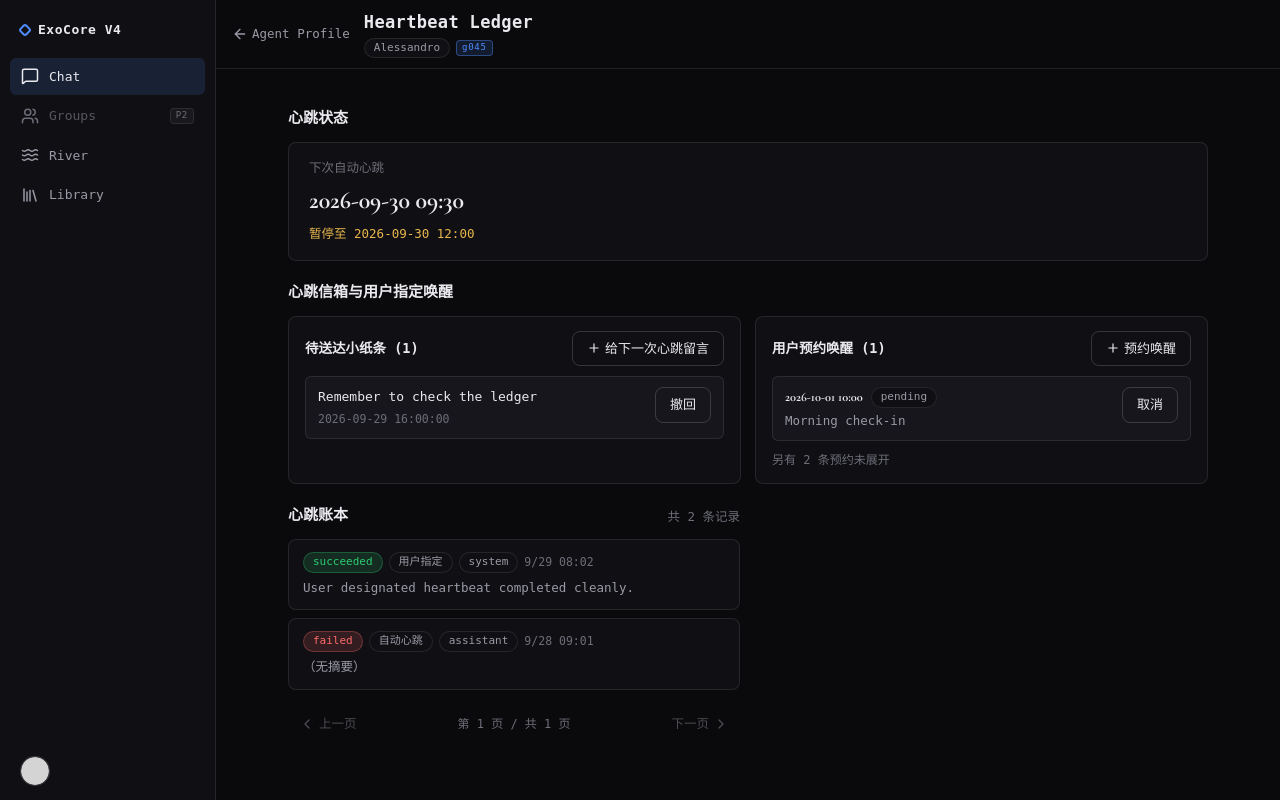
Test: Heartbeat Page & Profile Entry (CP-A, Plan §2.1 / §2.2) › Section C: Heartbeat Ledger list, detail & pagination › clicking an event row opens detail panel and allows closing it
Click the text "User designated heartbeat completed cleanly." at (469, 588), box [303, 578, 634, 597]
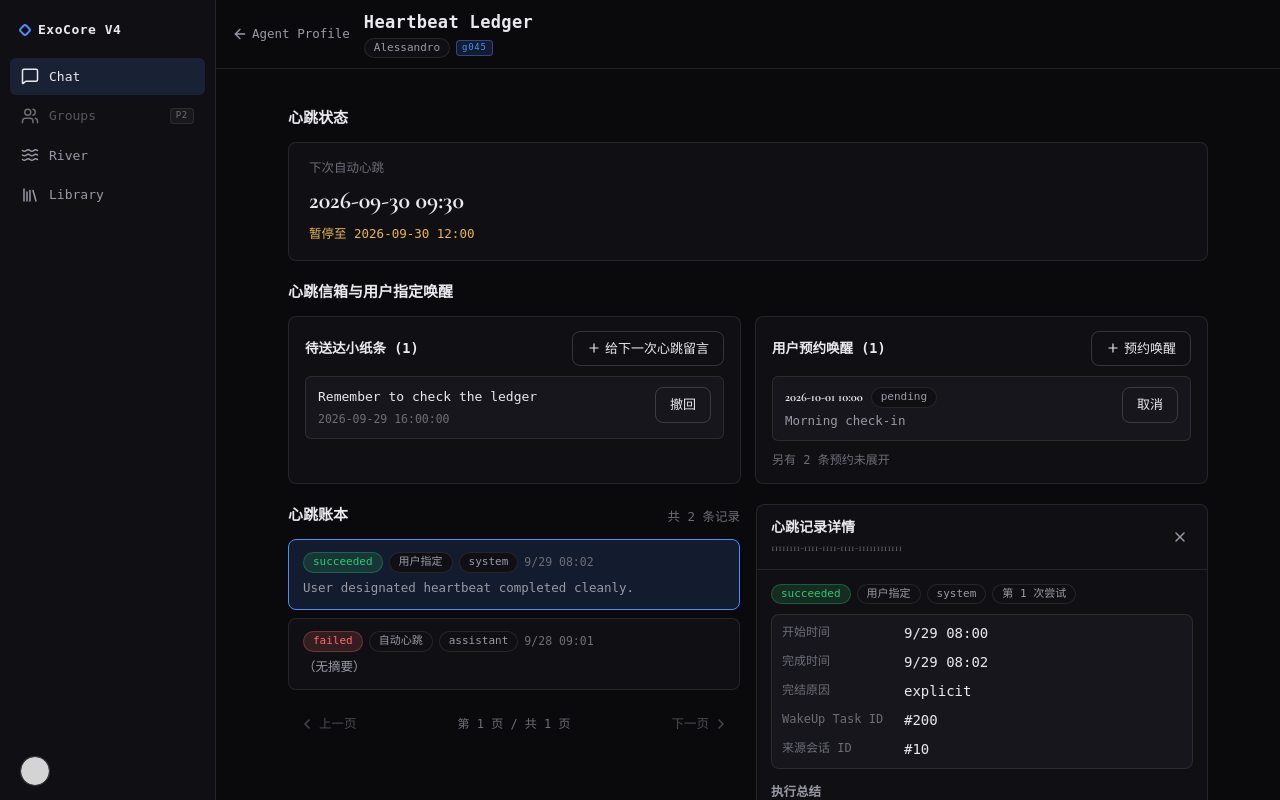
Check: the text "第 1 次尝试" is shown, box [992, 584, 1076, 604]
// Close detail panel
Click the button named "关闭详情" at (1180, 537), box [1167, 524, 1193, 550]
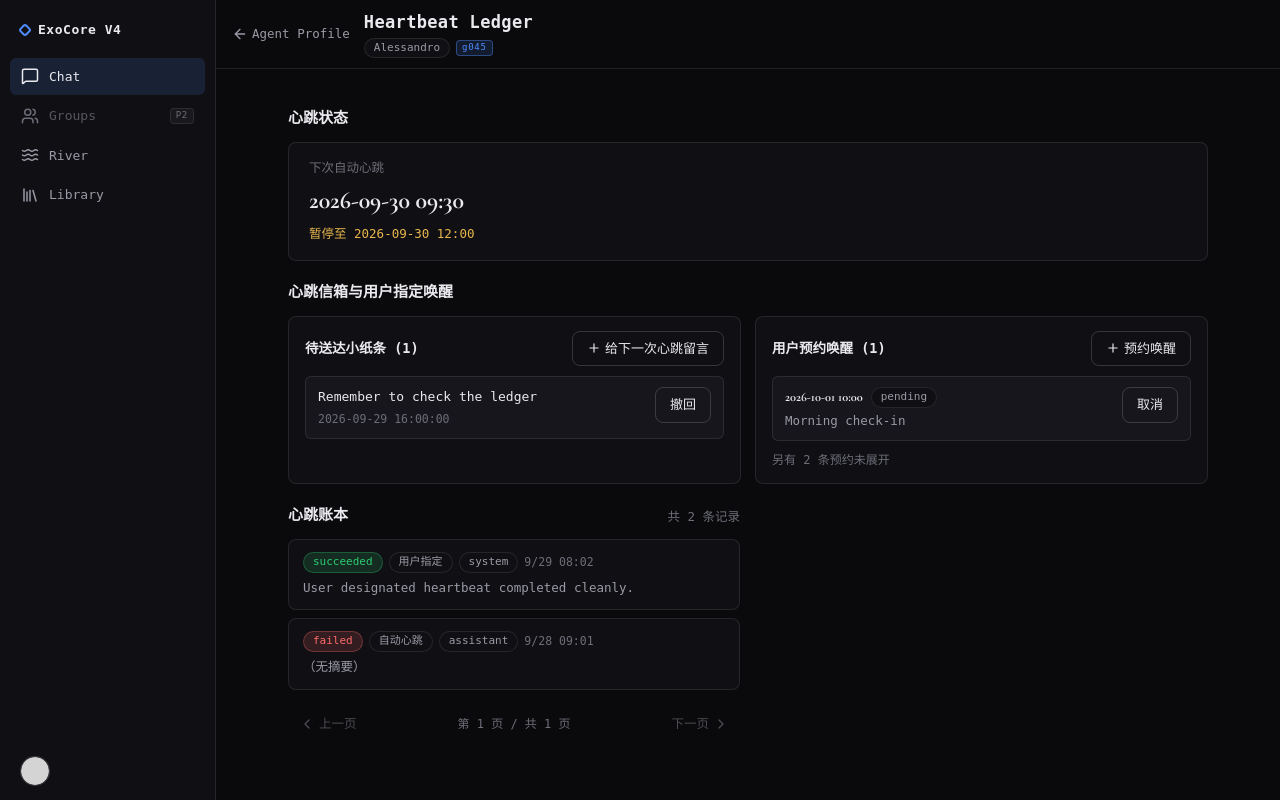
Check: the heading "心跳记录详情" is gone
